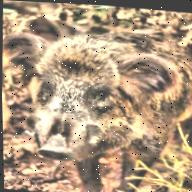boar: (2, 0, 192, 192)
